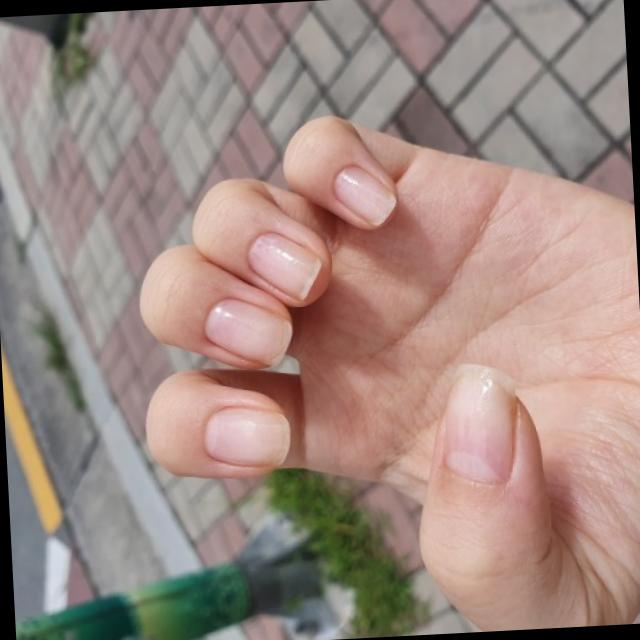Nail: (444, 360, 513, 485), (205, 295, 292, 364), (204, 406, 291, 465), (248, 231, 322, 299), (334, 165, 396, 225)
